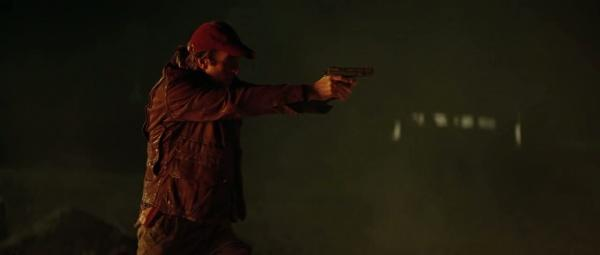Gun: (324, 66, 375, 87)
